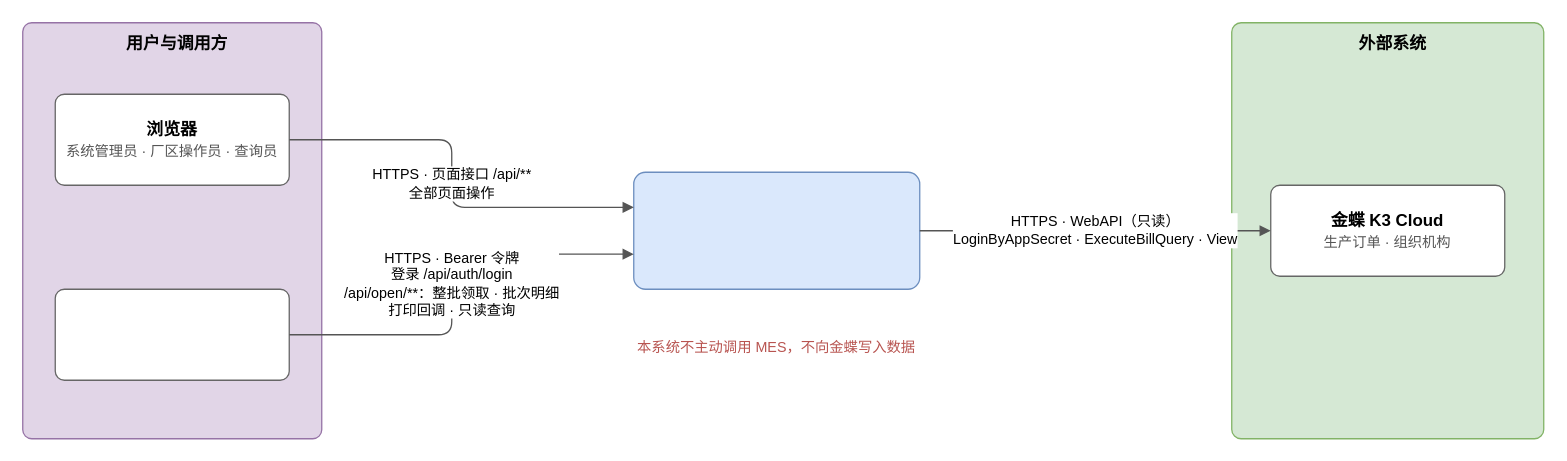
Some shapes in this 1567 by 461 pixel diagram are drawn without their labels. Here are the shapes that lost their labels. From the top down, the centre of each, then its label:
the point at 776,230: SN 管控中心 sn-center
the point at 171,334: MES / 打印系统 工厂侧系统
